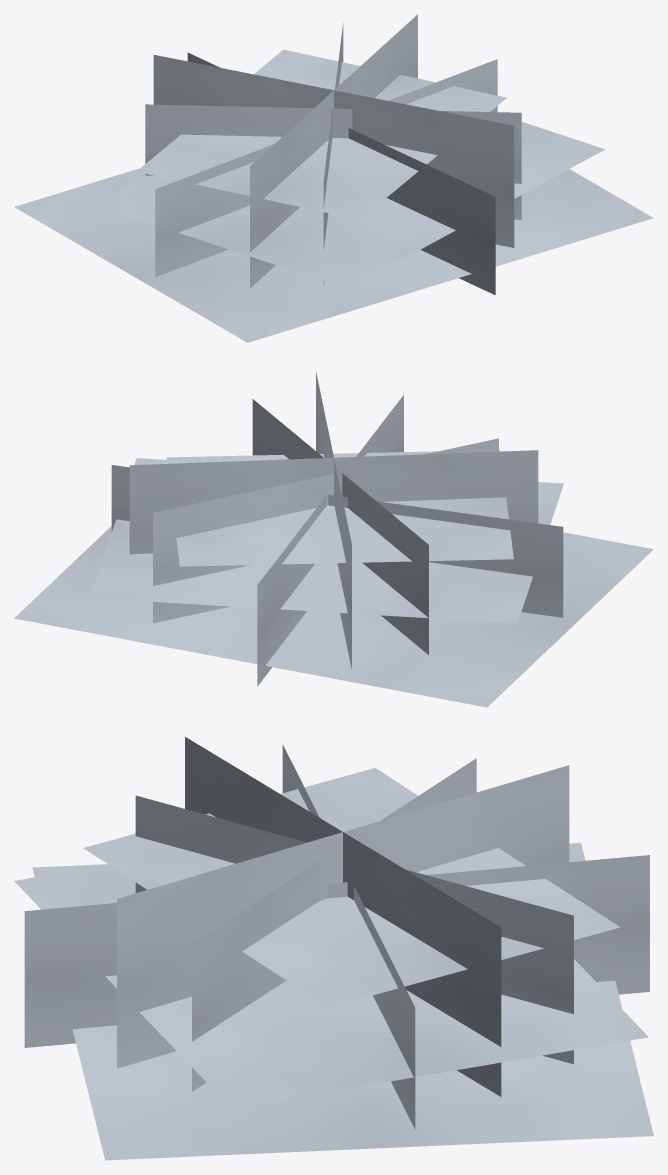
Rendered from sea_mist.fbx.
3 renders of one model, top to bottom at view 1: azimuth 30°, elevation 25°; view 2: azimuth 150°, elevation 25°; view 3: azimuth 270°, elevation 25°, orthographic. The views are drawn at different scales.
Visible parts, largest first — view 1: sea_mist; view 2: sea_mist; view 3: sea_mist.
Boxes of the visible parts, box(x1,y1,x2,y2) form: sea_mist: box(14, 14, 653, 342); sea_mist: box(14, 372, 653, 707); sea_mist: box(14, 737, 653, 1160).
Bounding box in the file's own units: 2585 × 700 × 2203.
